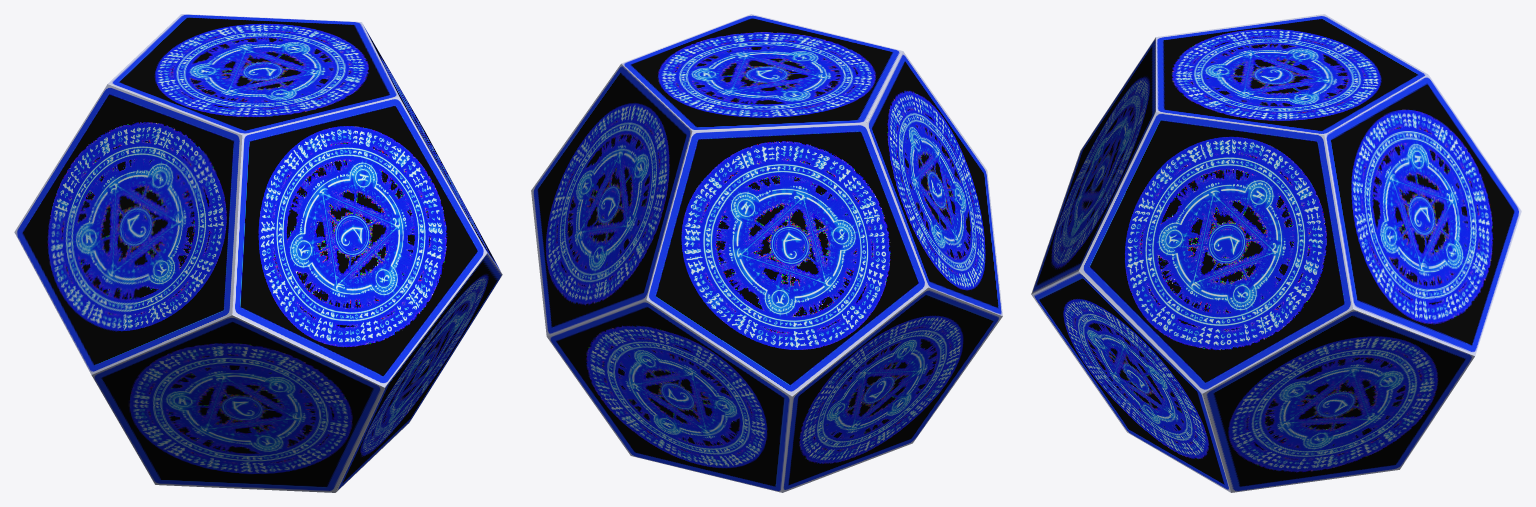
File: occulus.obj
3 views of the same model, side by side, from view 1: azimuth 30°, elevation 25°; view 2: azimuth 150°, elevation 25°; view 3: azimuth 270°, elevation 25° (orthographic). The views are drawn at different scales.
Visible parts, largest first — view 1: Cylinder.000_Cylinder.009; view 2: Cylinder.000_Cylinder.009; view 3: Cylinder.000_Cylinder.009.
Part boxes in pixels (<box>): Cylinder.000_Cylinder.009: <box>14,14,502,492</box>; Cylinder.000_Cylinder.009: <box>531,14,1002,492</box>; Cylinder.000_Cylinder.009: <box>1031,14,1521,492</box>.
Bounding box in the file's own units: 0.5366 × 0.4564 × 0.5673.
